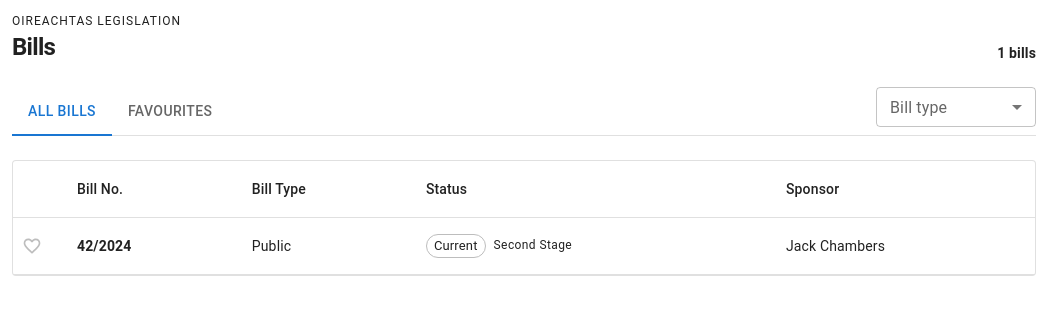
BillsTable › shows an empty favourites message on the favourites tab
Click the tab "Favourites": click(170, 112) [112,88,228,136]
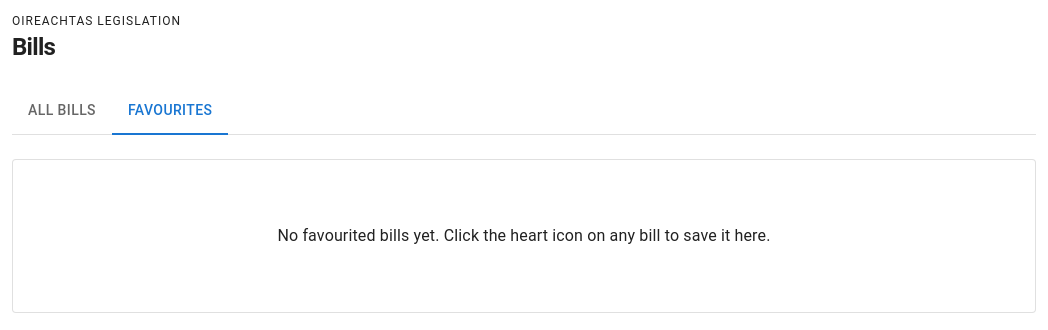
expect the text "No favourited bills yet. Click the heart icon on any bill to save it here." is shown: met, box [277,226,770,245]
